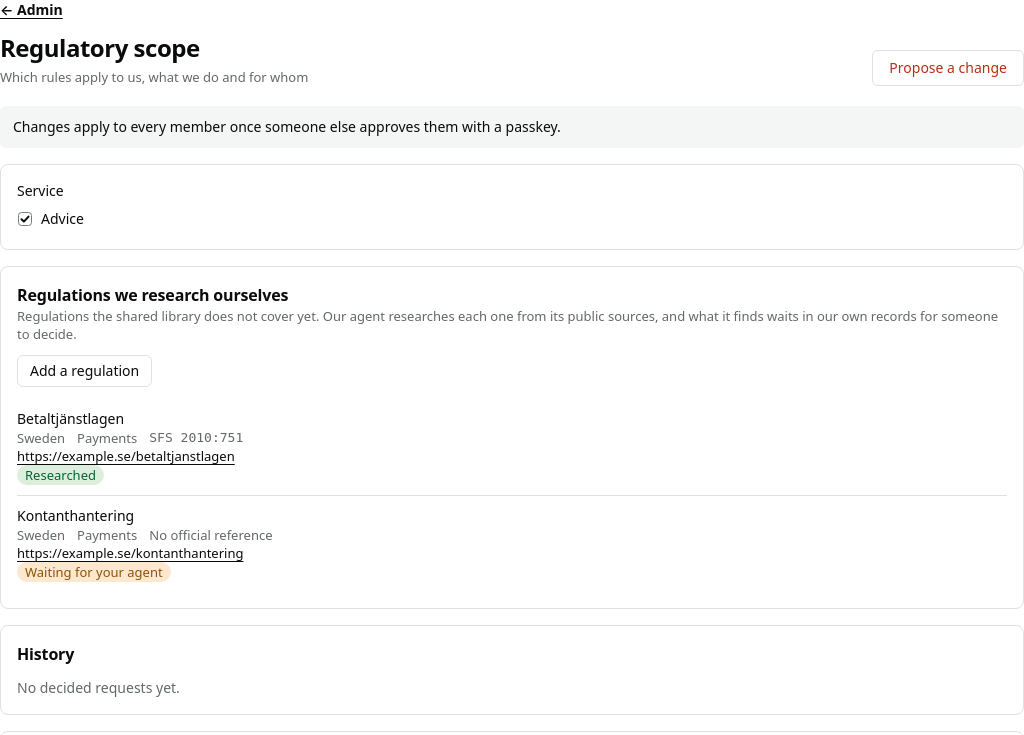
Scenario: scope items: proposing › removes an item through the same draft, and Keep takes the removal back
This screenshot has width=1024, height=735.
Click the button "Propose a change".
click(948, 68)  # box [872, 50, 1023, 86]
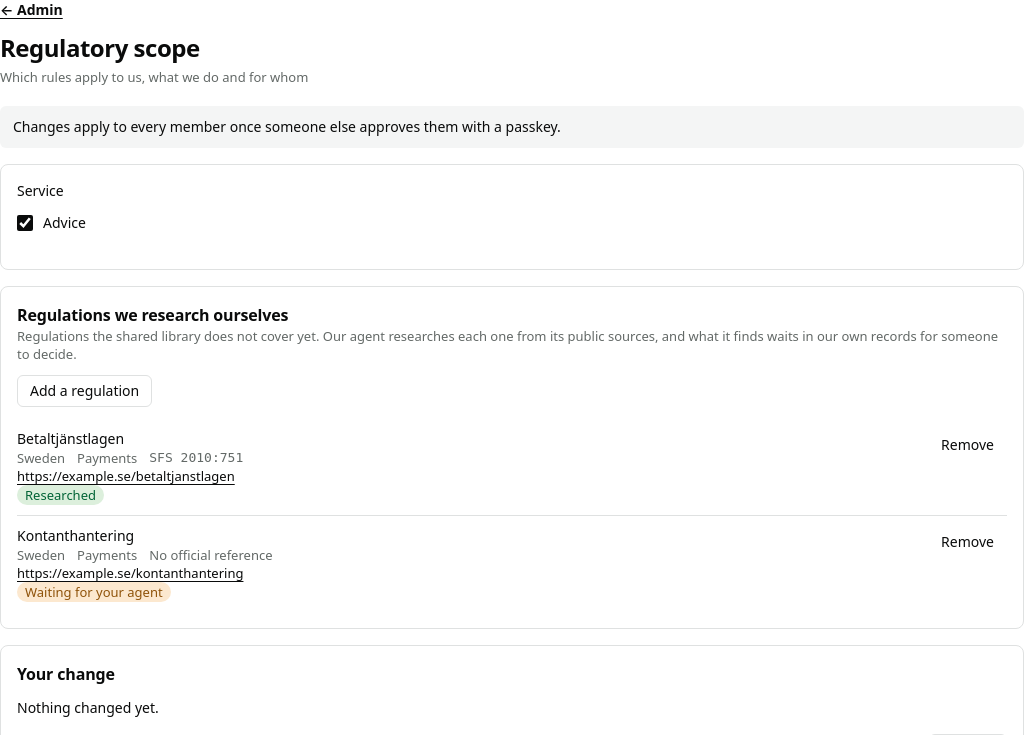
Click the button named "Remove Betaltjänstlagen".
click(968, 445)  # box [928, 429, 1007, 461]
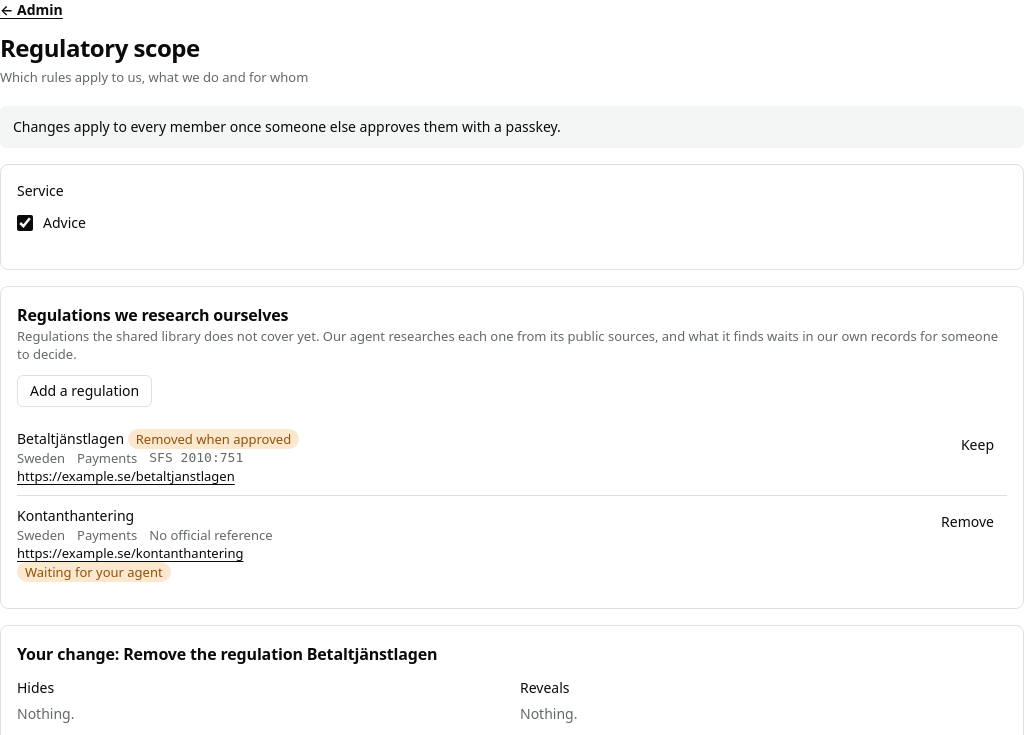
Click the button named "Keep Betaltjänstlagen".
click(977, 445)  # box [948, 429, 1007, 461]
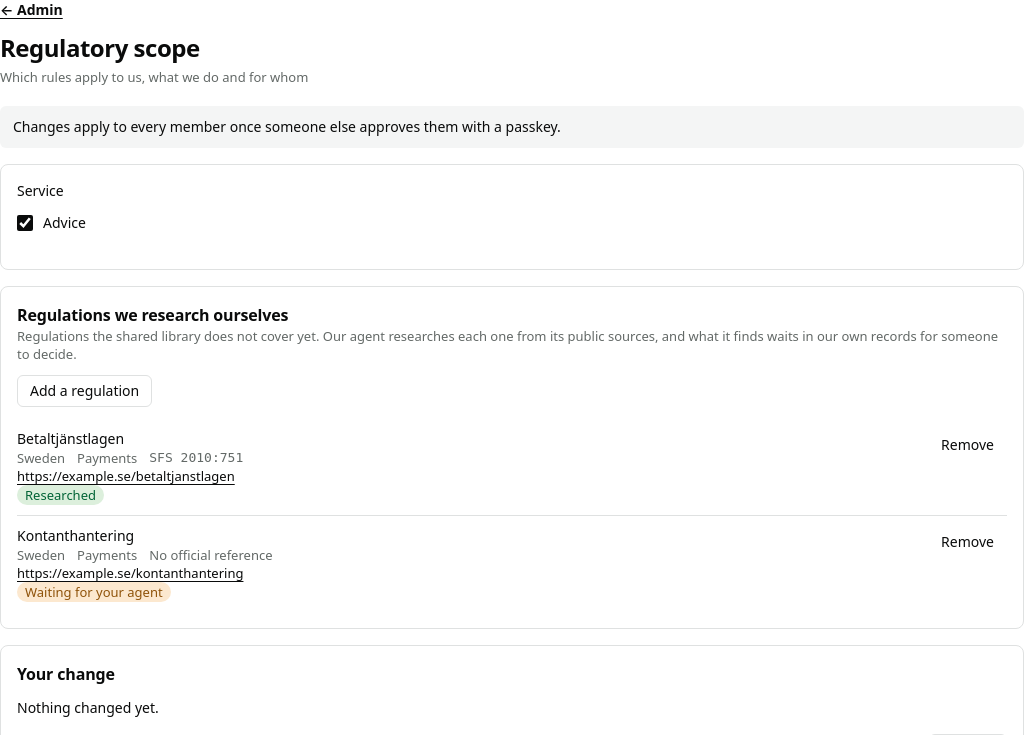
Click the button named "Remove Kontanthantering".
click(968, 542)  # box [928, 526, 1007, 558]
(page scrolled)
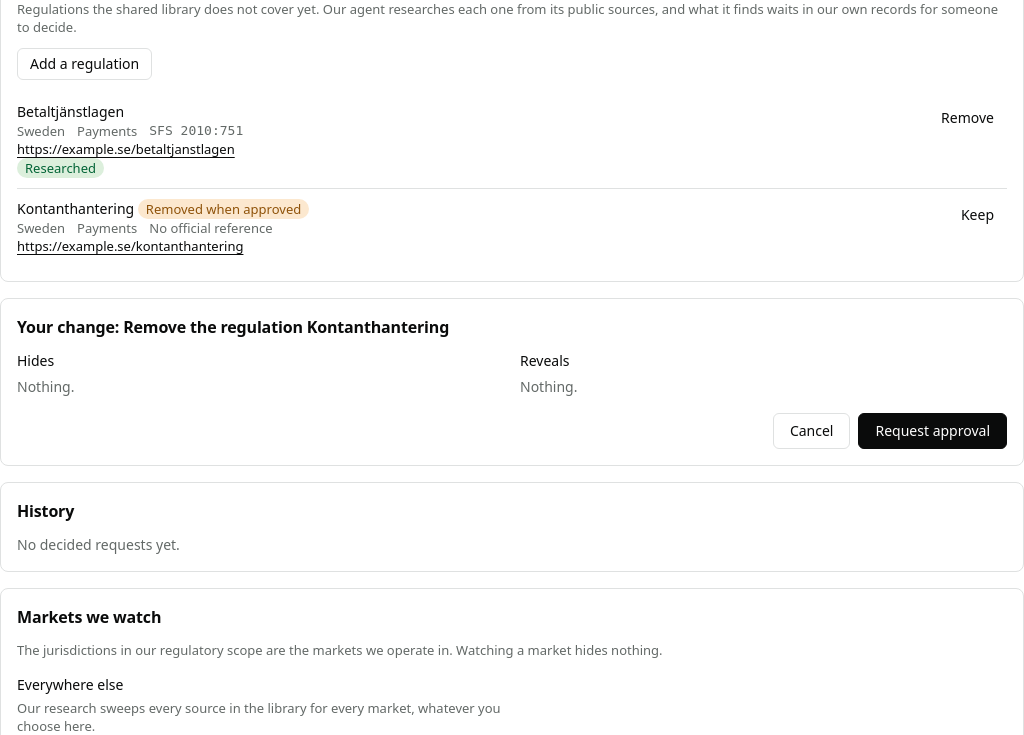
expect the heading "Your change: Remove the regulation Kontanthantering" is shown: met, box [17, 316, 449, 338]
Click the button "Request approval".
click(933, 431)  # box [858, 413, 1007, 449]
(page scrolled)
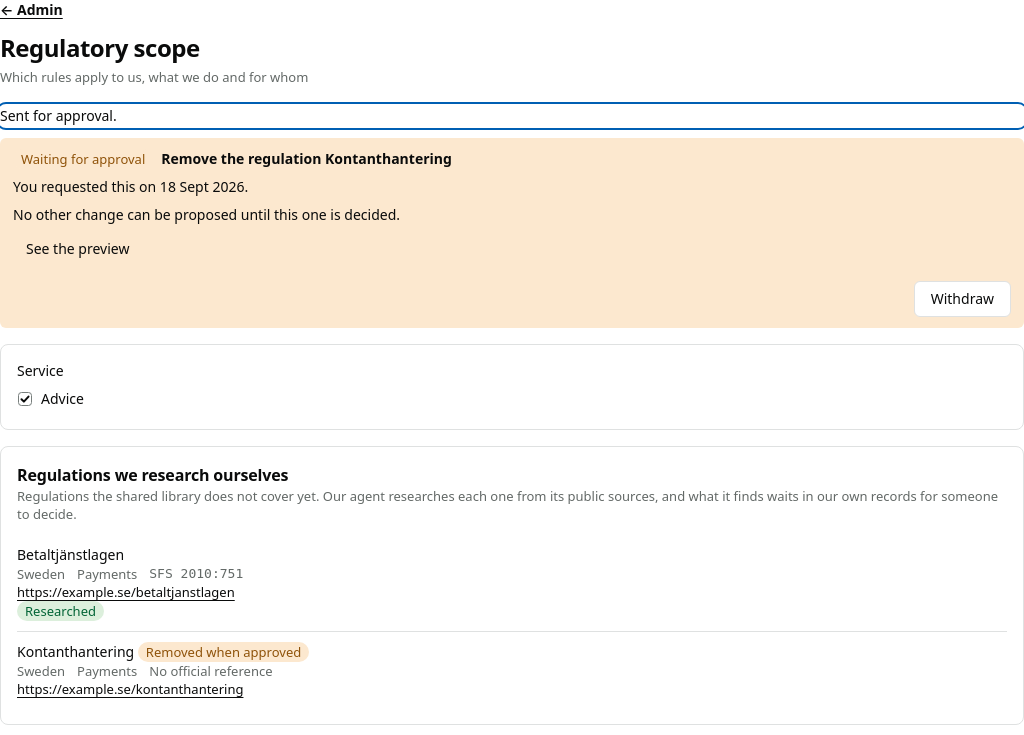
expect the message "Sent for approval." is shown: met, box [0, 106, 117, 125]
